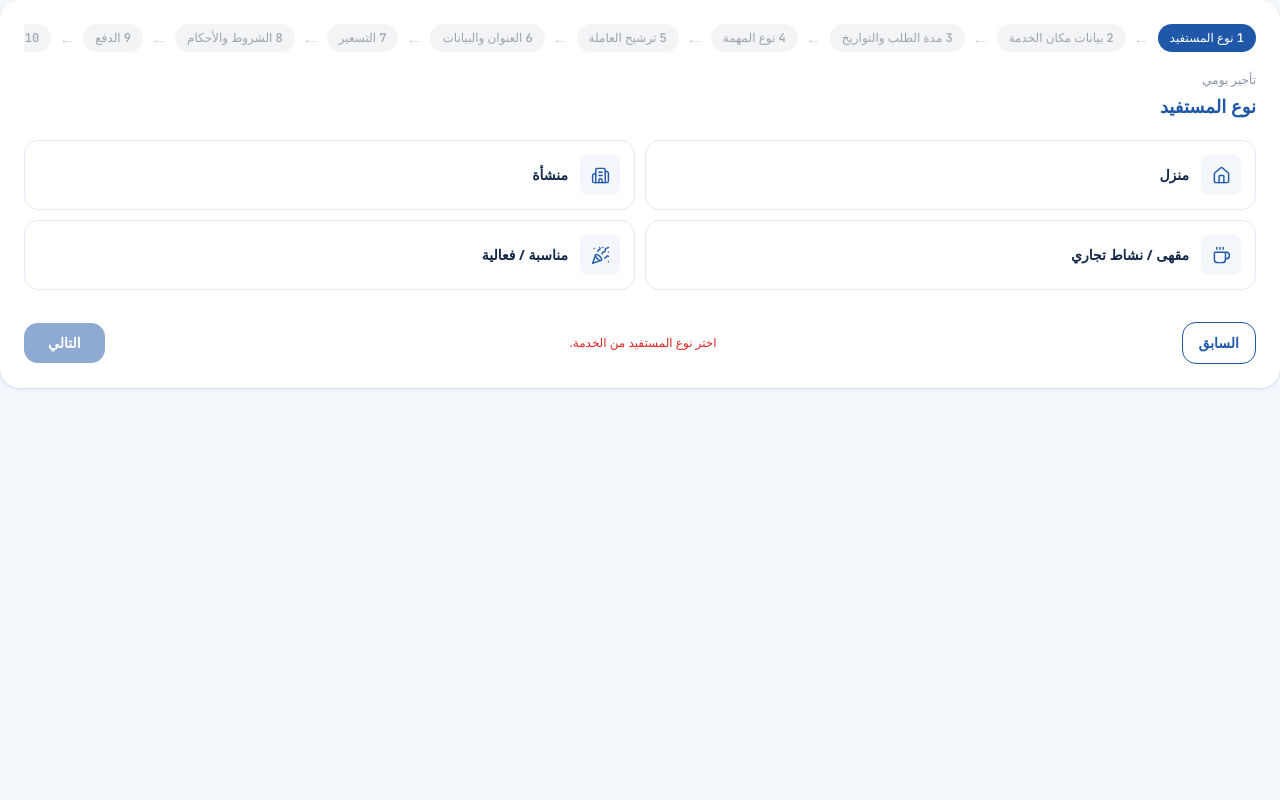
it: الحقول الشرطية في المعالج › المناسبة: أنواع المناسبة، و«أخرى» تفتح حقلًا مطلوبًا، ثم التاريخ والحضور
Click the button "مناسبة / فعالية" at [600, 255], box [24,220,635,290]
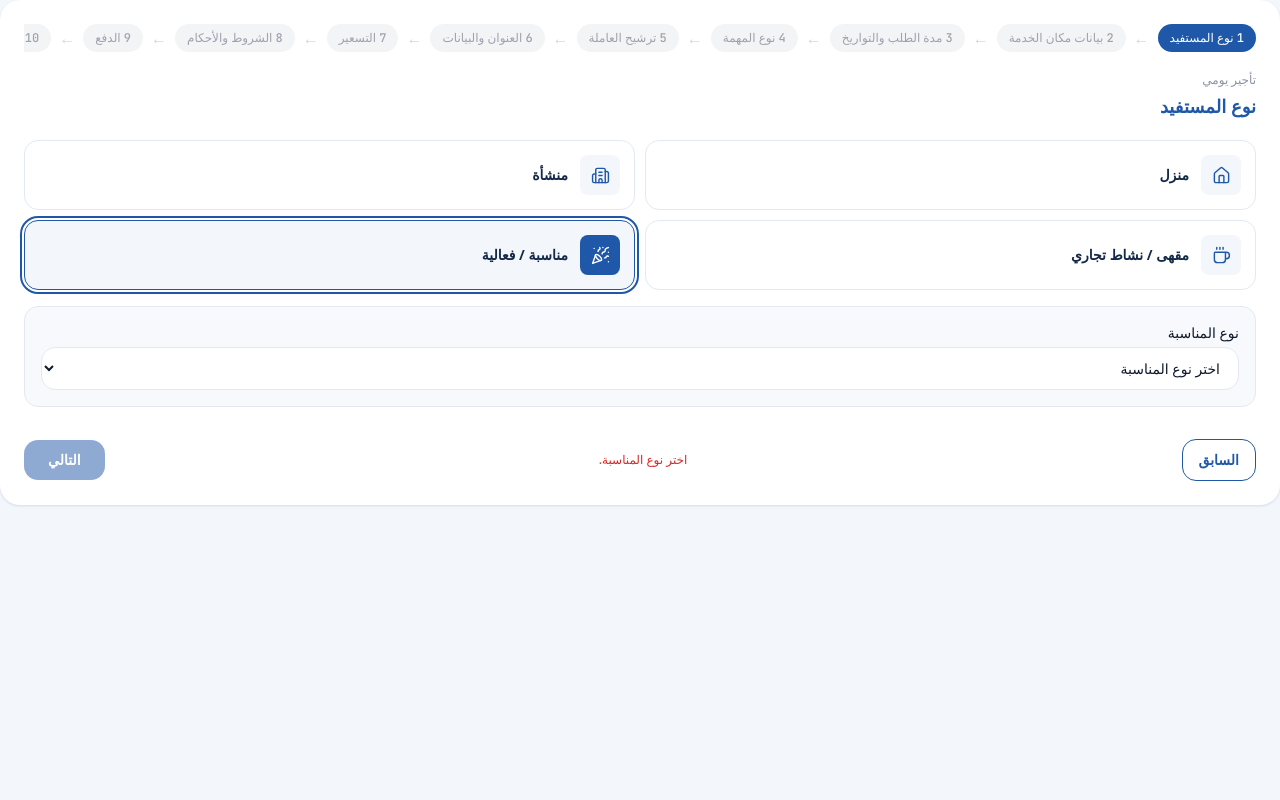
Expected: the field labelled "اكتب نوع المناسبة" is not shown
Now the text "اختر نوع المناسبة." is shown, box [599,451,687,468]
Select "أخرى" in the dropdown labelled "نوع المناسبة" at [640, 368], box [41,347,1239,390]
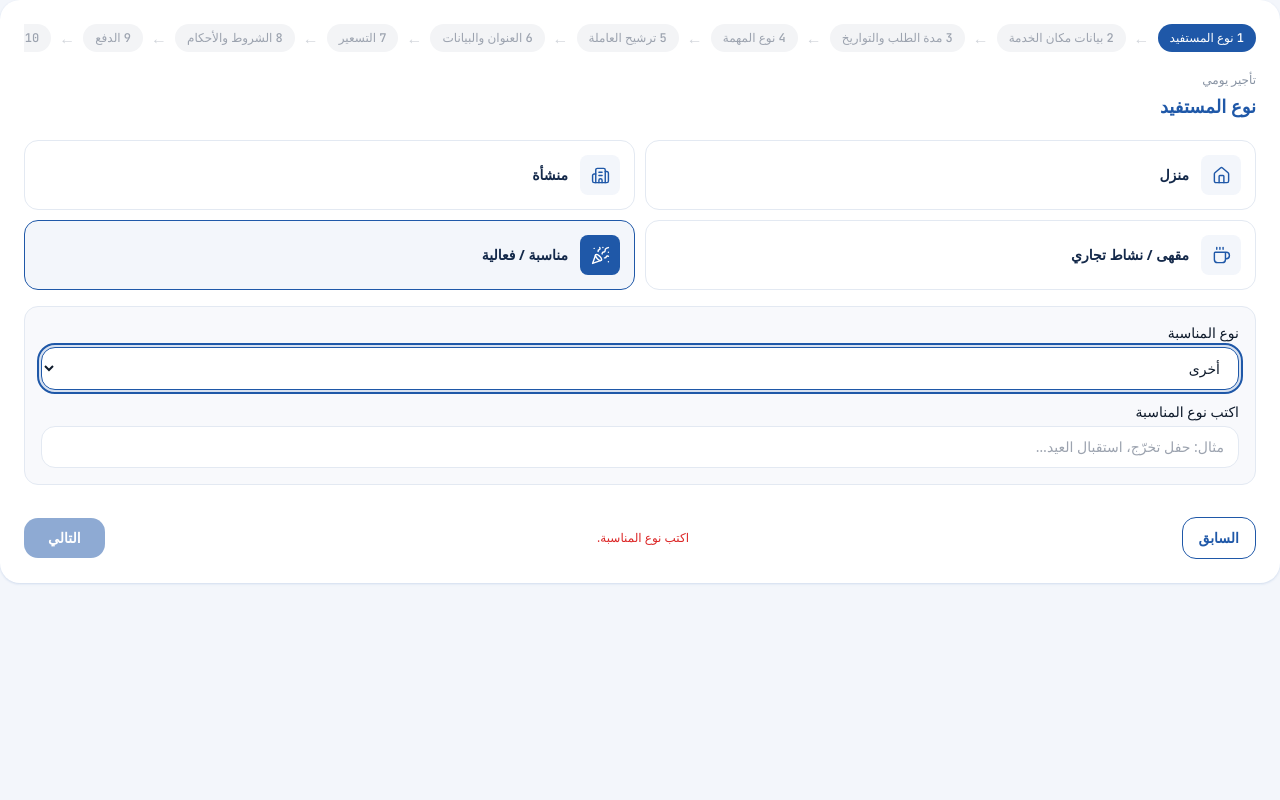
Expected: the button "التالي" is disabled, [24,518,105,558]
Now the text "اكتب نوع المناسبة." is shown, box [597,529,689,546]
Type "حفل تخرّج" into the field labelled "اكتب نوع المناسبة" at [640, 447], box [41,426,1239,468]
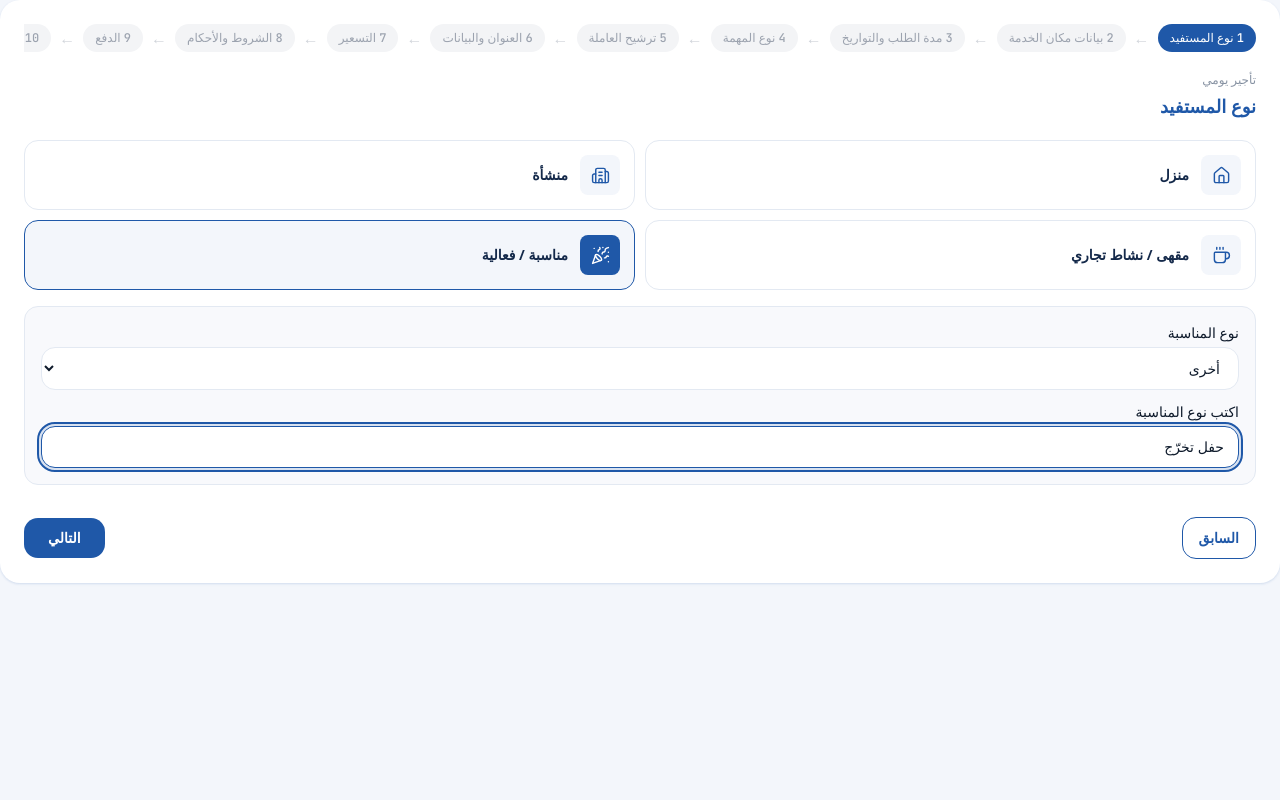
Now the button "التالي" is enabled
Click the button "التالي" at [64, 538], box [24,518,105,558]
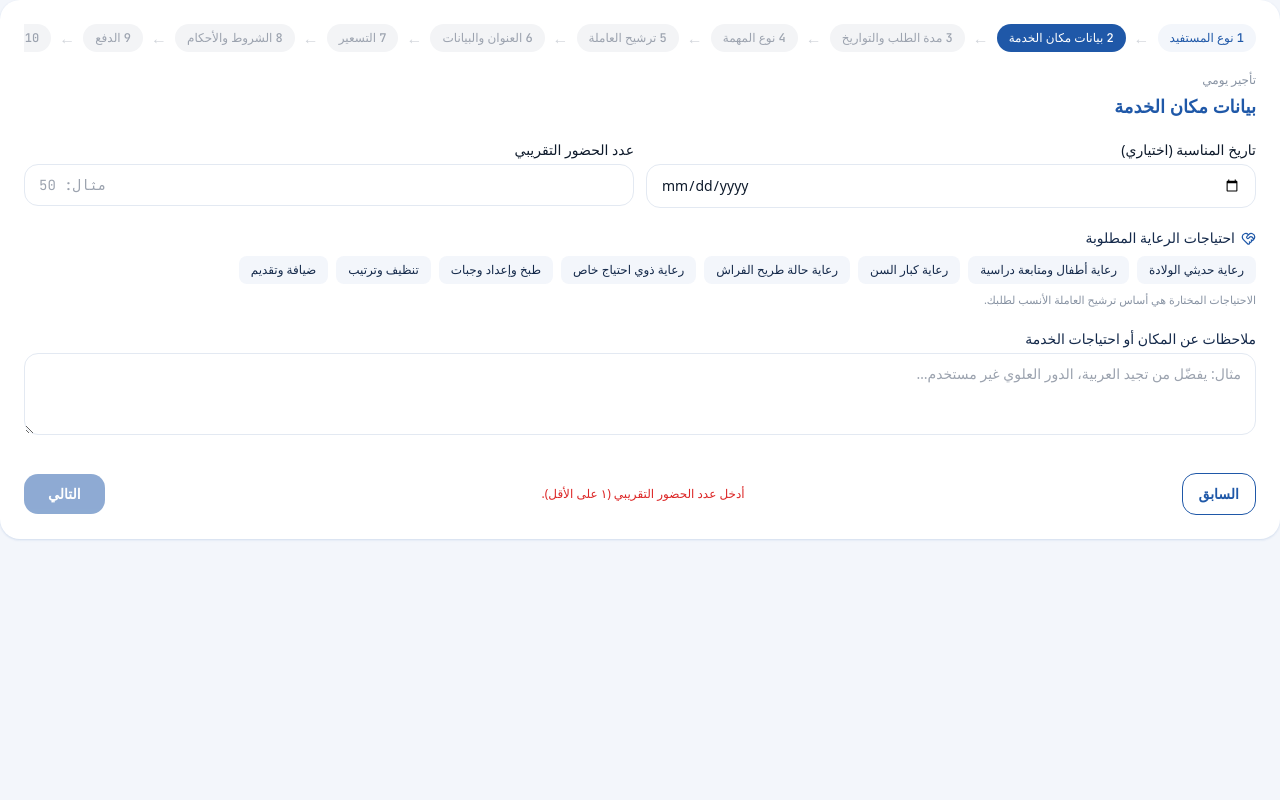
Now the date field labelled "تاريخ المناسبة (اختياري)" is shown, box [646,164,1256,208]
Now the number field labelled "عدد الحضور التقريبي" is shown, box [24,164,634,206]
Click the button "السابق" at [1219, 494], box [1182,472,1256,514]
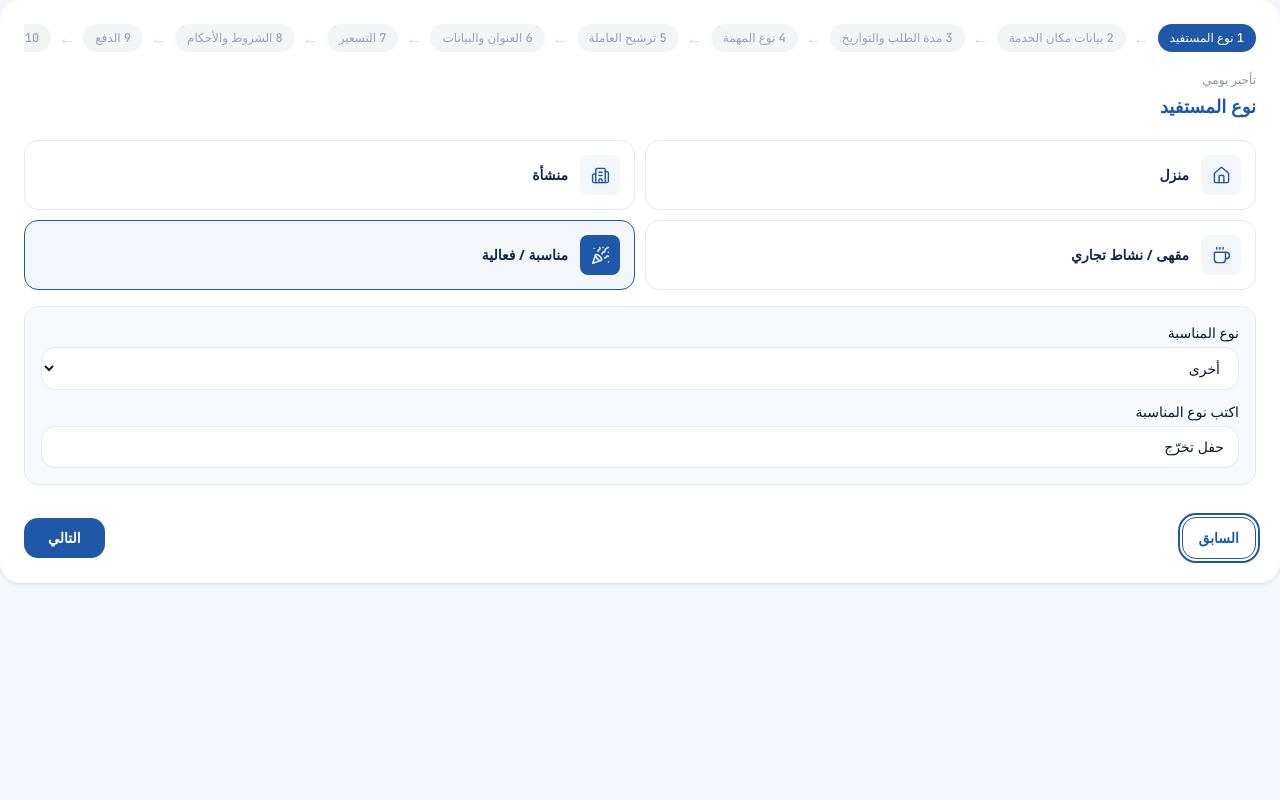
Now the field labelled "اكتب نوع المناسبة" holds "حفل تخرّج", box [41,426,1239,468]
Now the dropdown labelled "نوع المناسبة" shows "أخرى", box [41,347,1239,390]
